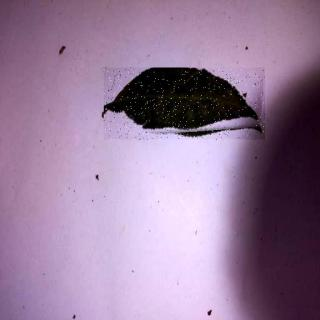Anthracnose: (105, 69, 266, 142)
